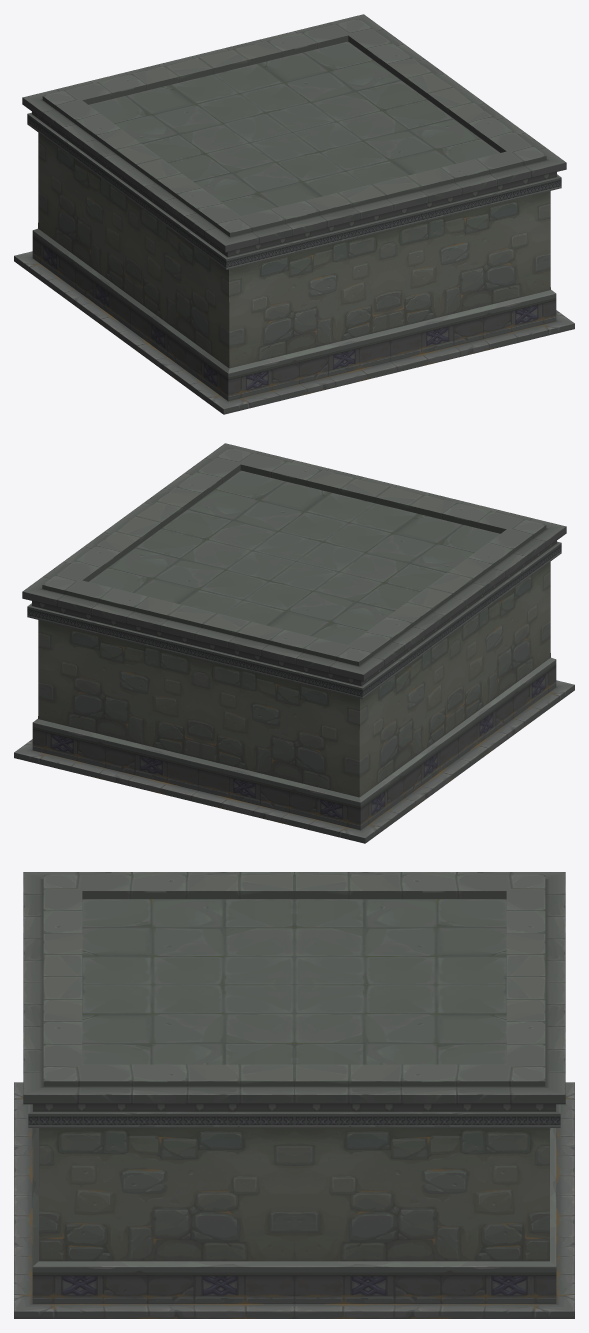
The model's file is sc_dungeon_moshenta_fangzi_001_b.FBX.
The picture shows the model from 3 angles, top to bottom: view 1: azimuth 30°, elevation 25°; view 2: azimuth 150°, elevation 25°; view 3: azimuth 270°, elevation 25°; orthographic projection. The views are drawn at different scales.
Parts seen in each view (by area): view 1: sc_dungeon_moshenta_fangzi_001_b; view 2: sc_dungeon_moshenta_fangzi_001_b; view 3: sc_dungeon_moshenta_fangzi_001_b.
Boxes of the visible parts, x1,y1,x2,y2 form: sc_dungeon_moshenta_fangzi_001_b: (14,14,574,414); sc_dungeon_moshenta_fangzi_001_b: (14,443,574,843); sc_dungeon_moshenta_fangzi_001_b: (14,872,574,1318).
Size of the model in its own units: 13.97 by 6.43 by 14.45.
Materials: 1 (1 with a texture image).
